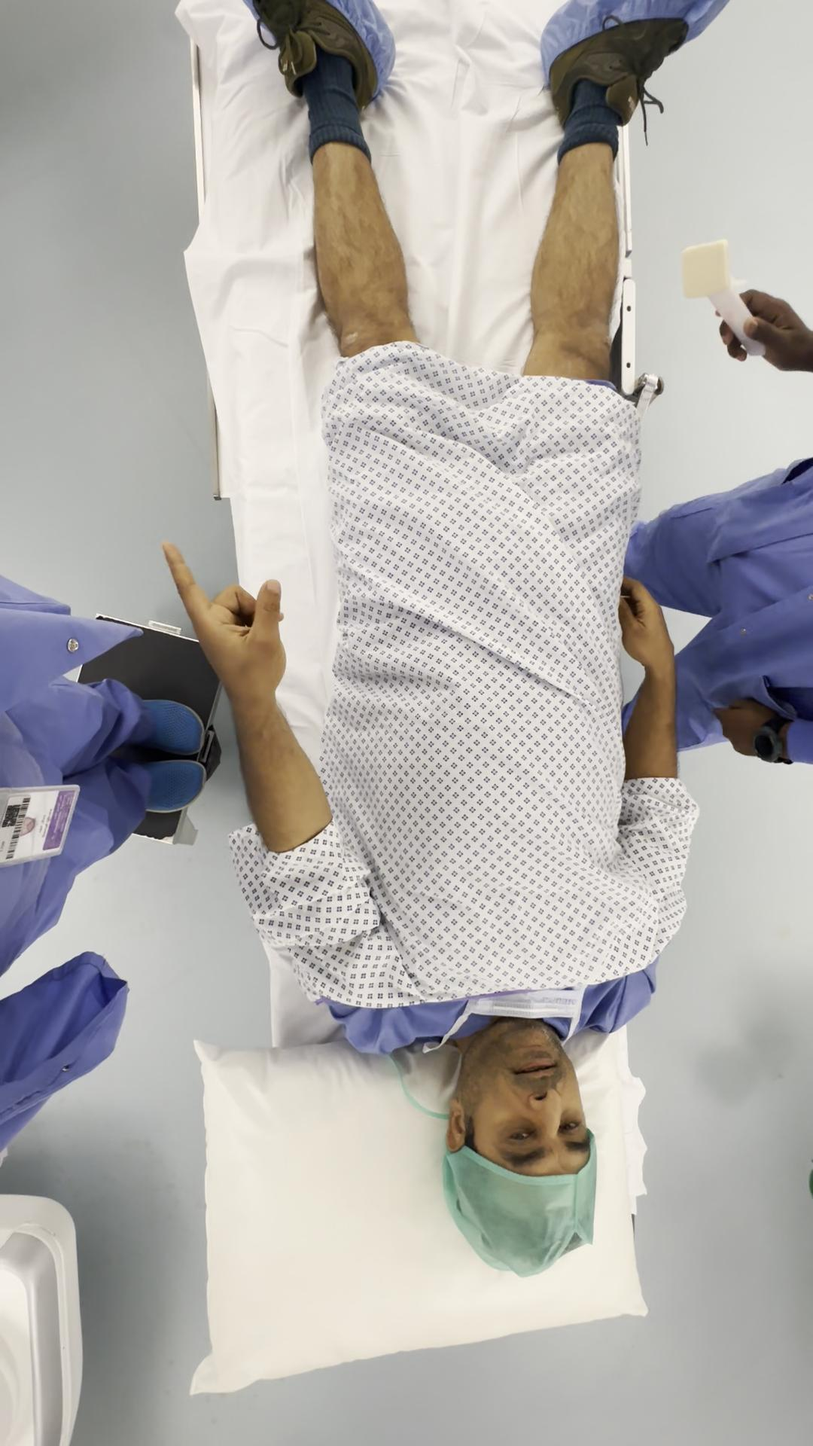bed: (178, 0, 721, 1388)
patient: (167, 0, 723, 1277)
prepstick: (683, 240, 765, 356)
